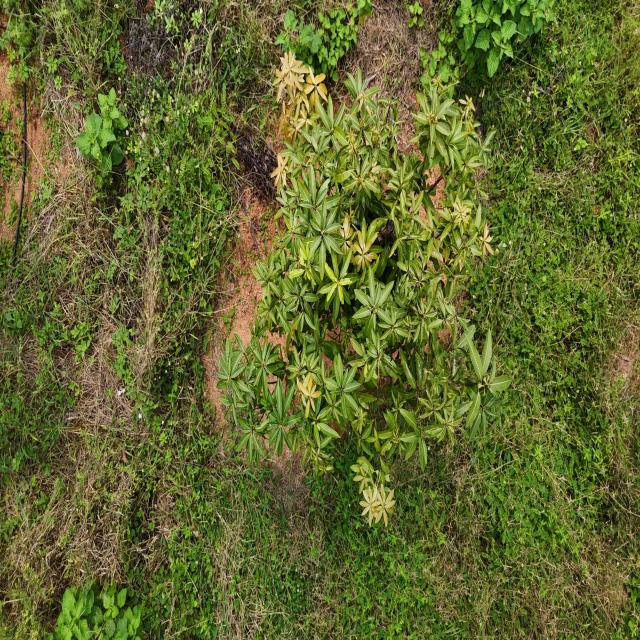mangoTree: (215, 49, 514, 533)
notMangoTree: (50, 575, 148, 640), (77, 86, 131, 195)
